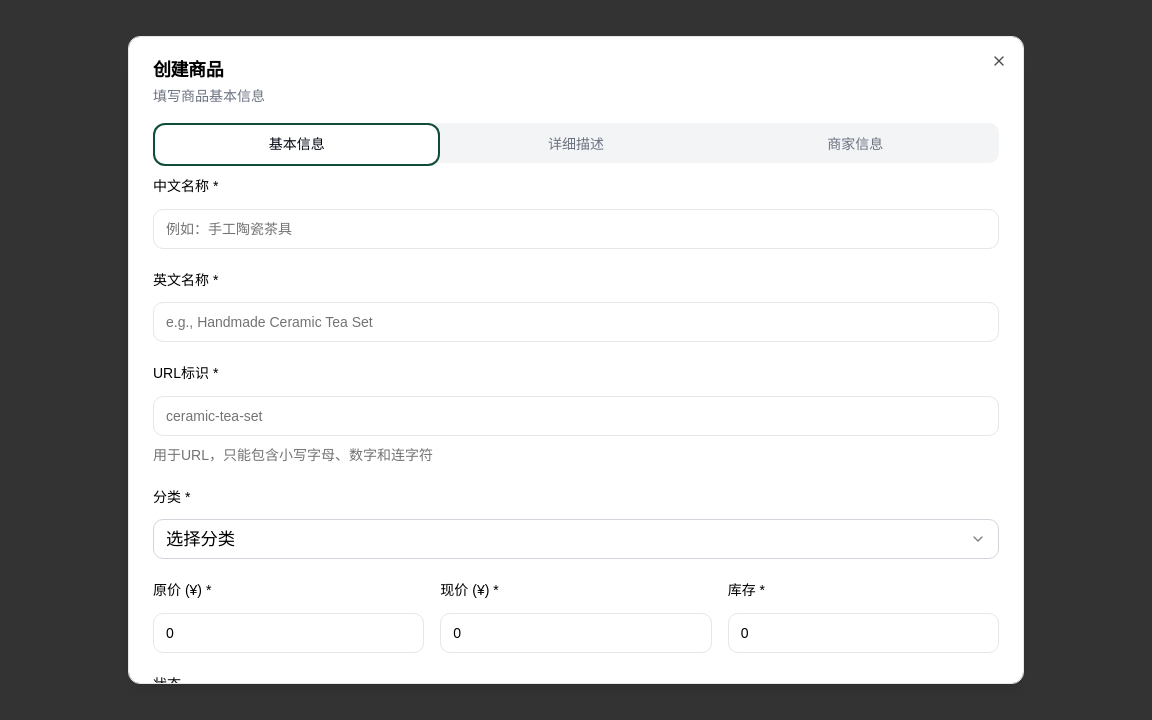
it: ProductEditor - Form Validation Tests (Requirements 9.2) › Price Validation › should show error when stock quantity is negative
Replace the text in the number field labelled "库存 *" with "-10". click: (863, 633)
box: x1=728 y1=613 x2=999 y2=653
(page scrolled)
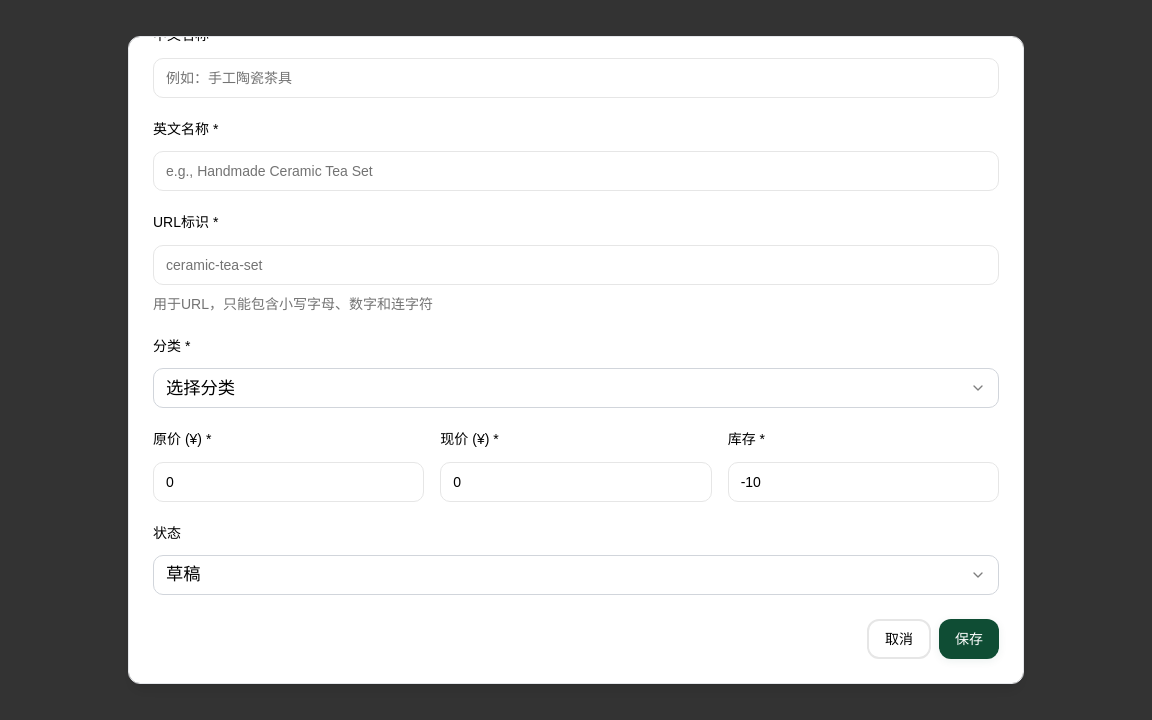
Click the button "保存". click: (969, 639)
box: x1=939 y1=619 x2=999 y2=659
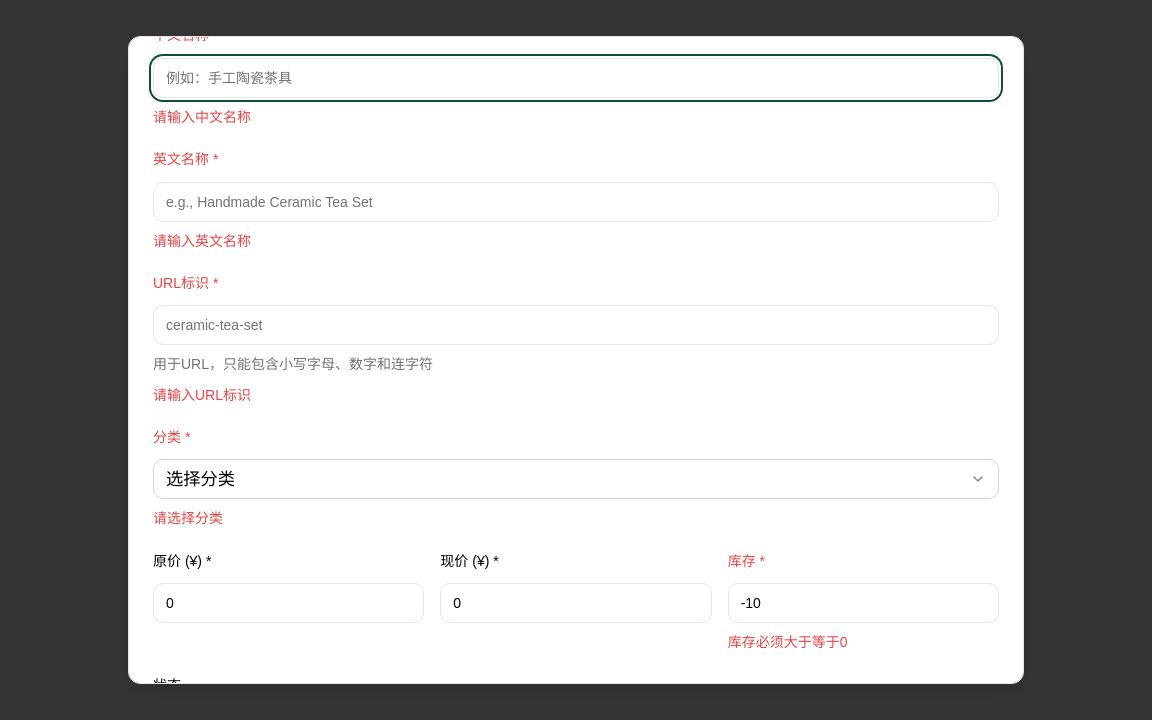
Check: the text "库存必须大于等于0" is shown, box x1=728 y1=634 x2=848 y2=650
